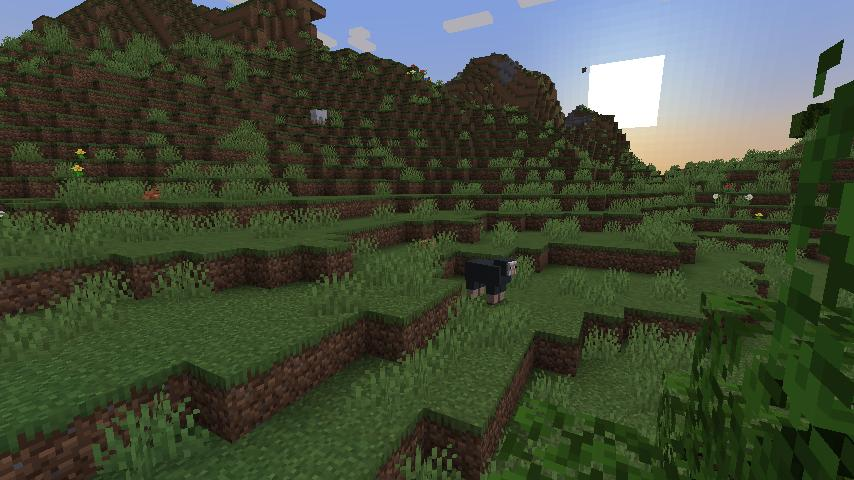frog: (139, 185, 164, 204)
sheep: (460, 253, 521, 308), (308, 106, 330, 126)
